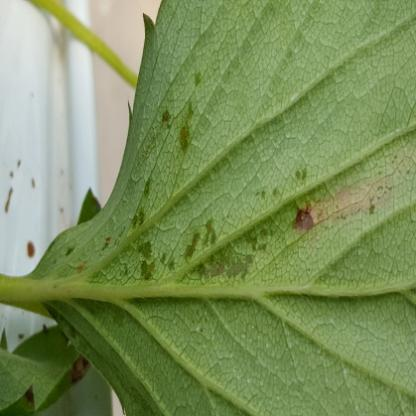Strawberry_Angular_LeafSpot: (37, 61, 415, 292)
